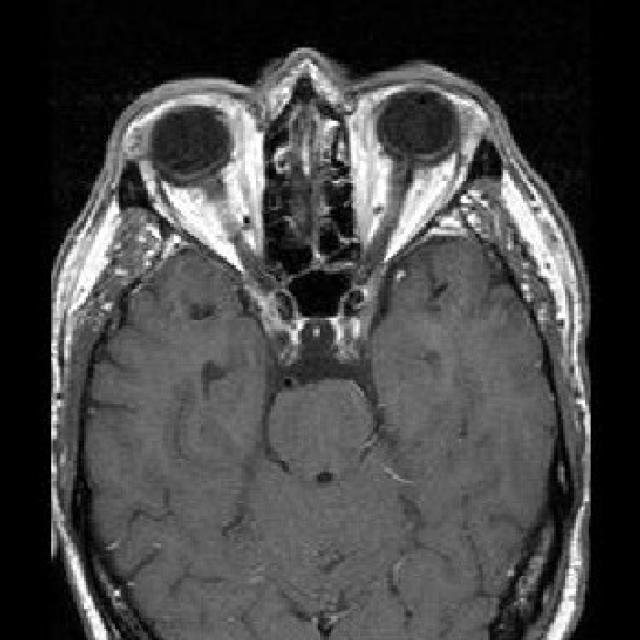No_Tumor: (52, 48, 587, 639)
